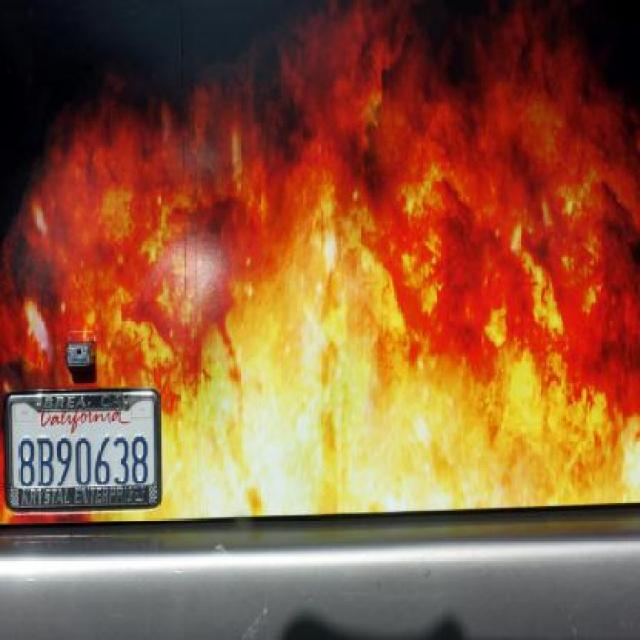License-Plates: (1, 386, 168, 510)
